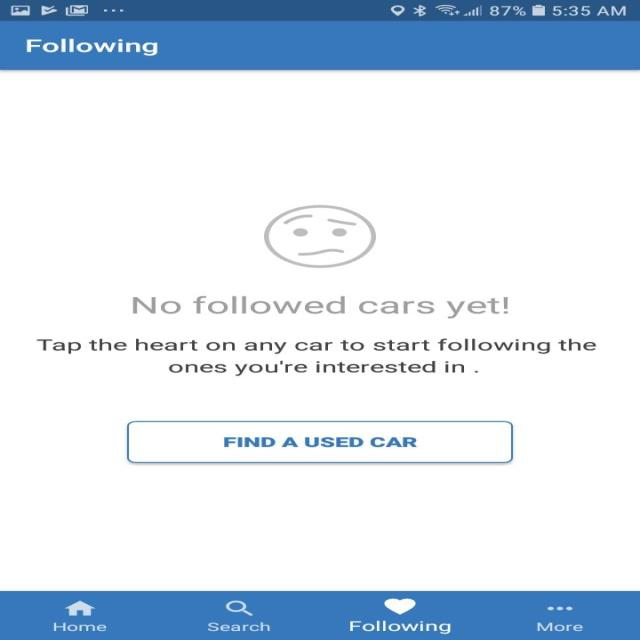Icon: (263, 204, 376, 268), (383, 598, 416, 614), (64, 599, 95, 616), (224, 599, 253, 616), (546, 606, 572, 610)
Text: (36, 338, 596, 377), (132, 296, 508, 318), (25, 38, 158, 56), (349, 620, 451, 634), (207, 621, 270, 631), (53, 621, 107, 631), (536, 621, 582, 631)
TextButton: (126, 421, 513, 463)
